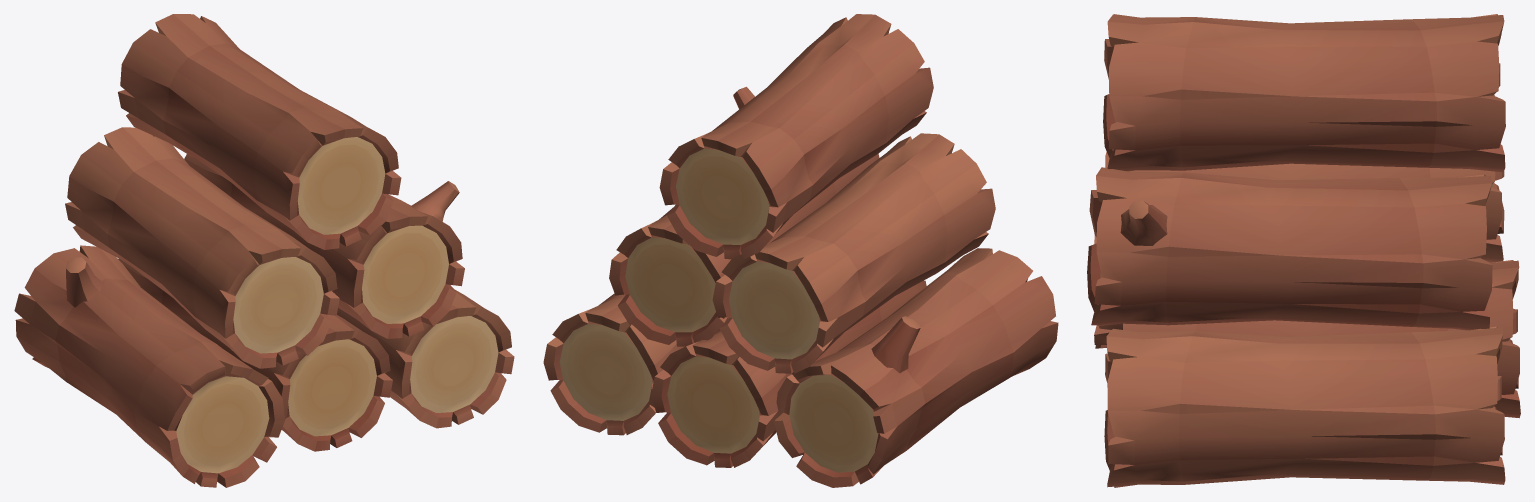
Rendered from logs.glb.
3 renders of one model, left to right at view 1: azimuth 30°, elevation 25°; view 2: azimuth 150°, elevation 25°; view 3: azimuth 270°, elevation 25°, orthographic. The views are drawn at different scales.
Parts seen in each view (by area): view 1: Wood_Log_Stack; view 2: Wood_Log_Stack; view 3: Wood_Log_Stack.
Boxes of the visible parts, x1,y1,x2,y2 form: Wood_Log_Stack: [14, 14, 514, 487]; Wood_Log_Stack: [543, 14, 1058, 487]; Wood_Log_Stack: [1087, 14, 1520, 487].
Bounding box in the file's own units: 1.68 × 1.5 × 1.5.
1 material, 1 textured.
